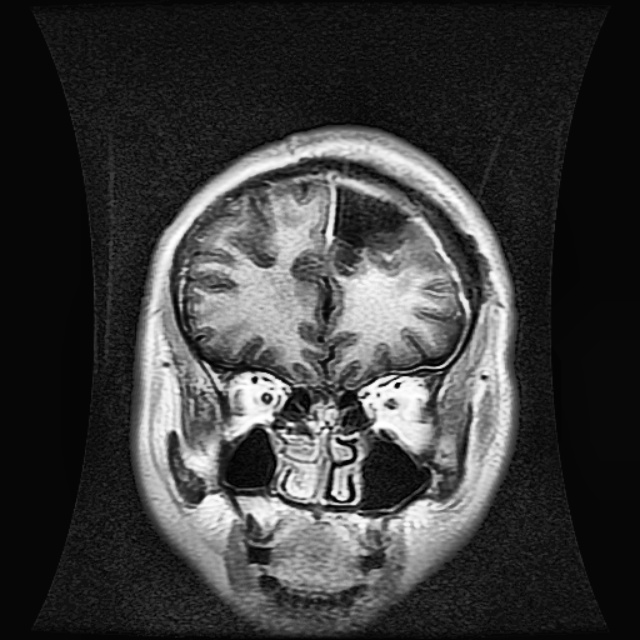Meningioma: (327, 184, 413, 274)
